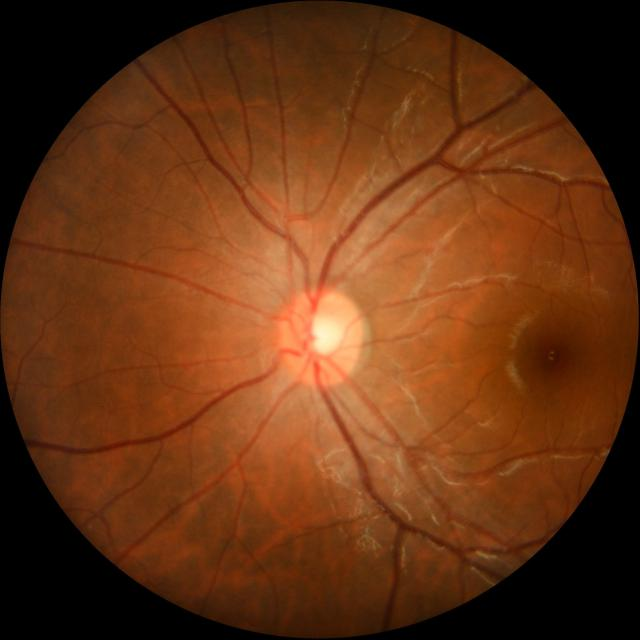OC: (304, 312, 345, 358)
OD: (277, 286, 365, 386)
